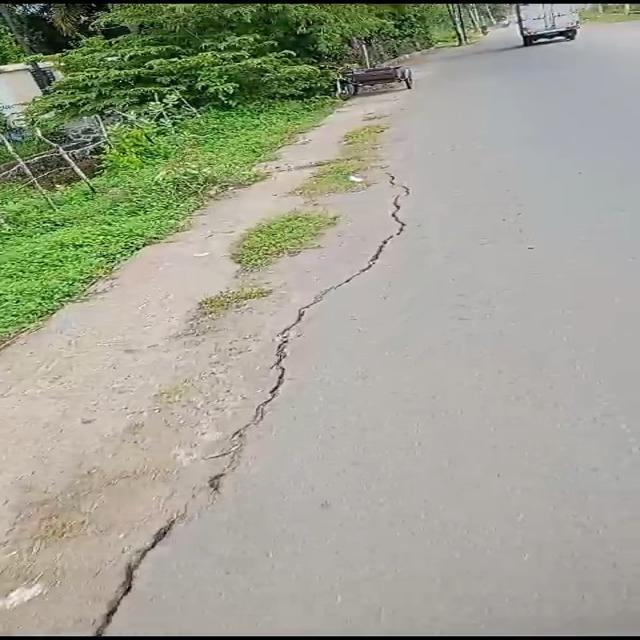Memanjang: (76, 160, 420, 640)
